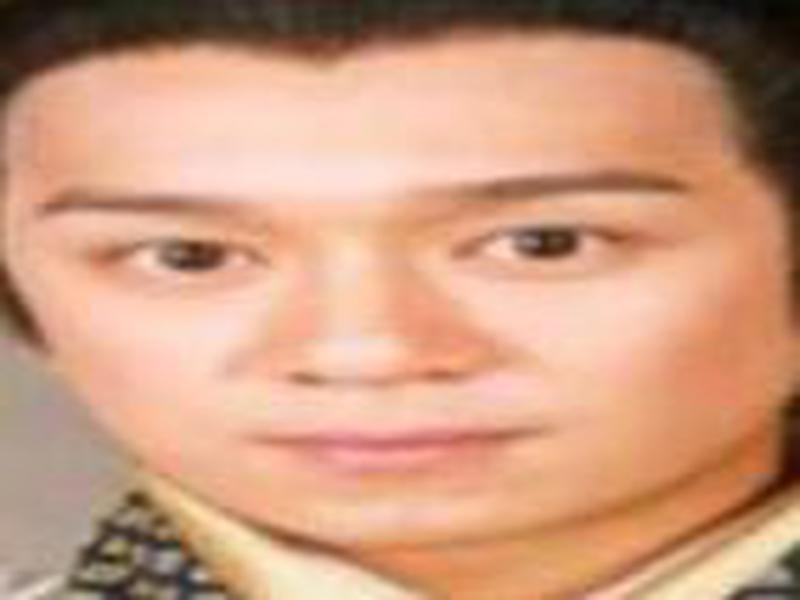without_mask: (10, 38, 800, 557)
